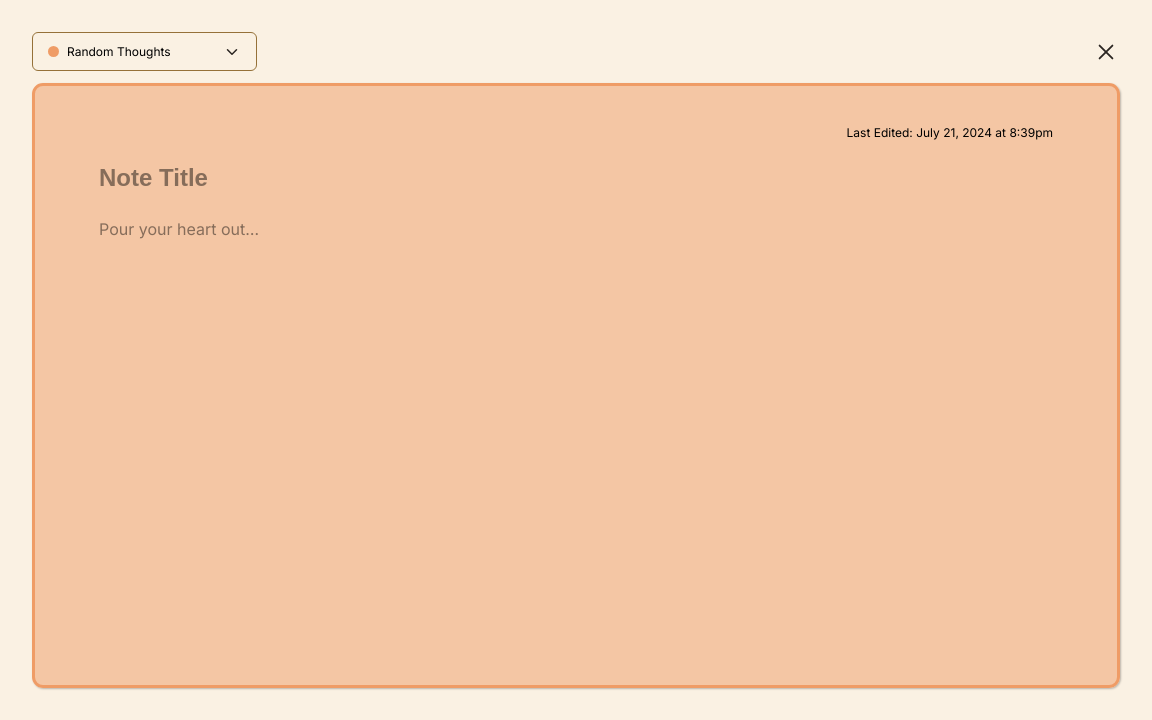
Test case: NoteEditor › shows the placeholders and last-edited label once loaded
The width and height of the screenshot is (1152, 720).
Expected: the field with placeholder "Note Title" is shown, [99, 164, 1053, 192]
Expected: the text box with placeholder "Pour your heart out…" is shown, [99, 216, 1053, 621]
// 1 — the category dropdown lists the user's categories
Click the button "Random Thoughts" at {"x": 144, "y": 52}, box [32, 32, 257, 71]
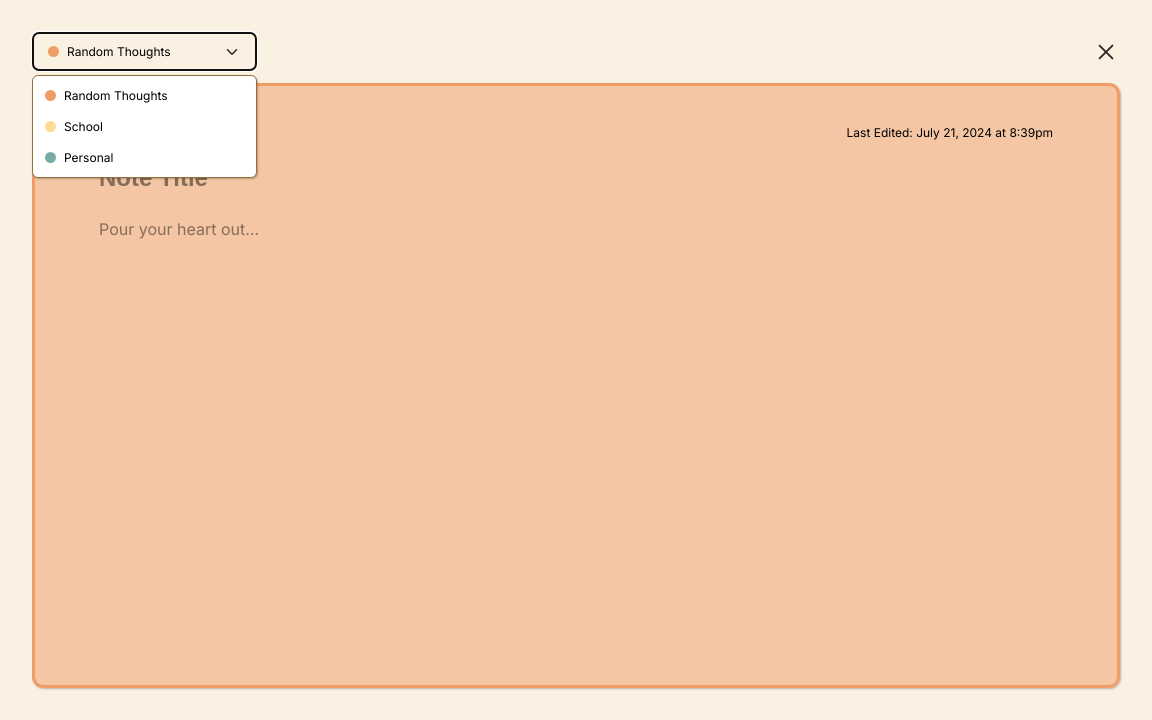
Now the option "School" is shown, box [37, 111, 252, 142]
